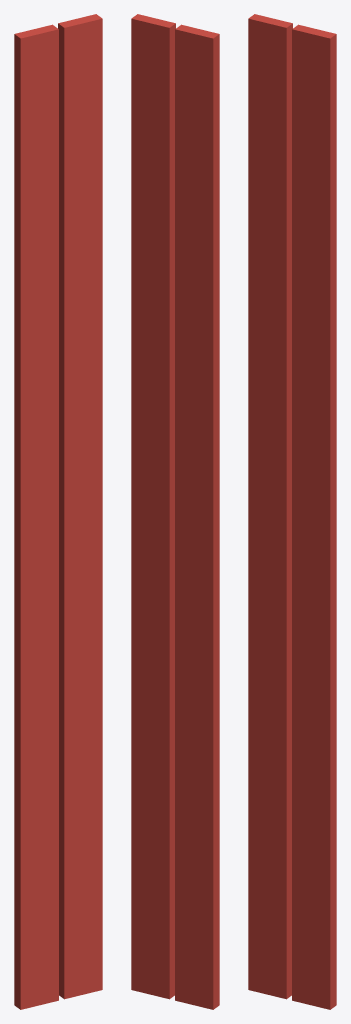
File: sm_product_ski_pair.glb
3 renders of one model, left to right at view 1: azimuth 30°, elevation 25°; view 2: azimuth 150°, elevation 25°; view 3: azimuth 330°, elevation 25°, orthographic.
Visible parts, largest first — view 1: ski_pair_0, ski_pair_1; view 2: ski_pair_0, ski_pair_1; view 3: ski_pair_1, ski_pair_0.
Part boxes in pixels (x1=…): ski_pair_0: x1=14, y1=24, x2=58, y2=1009; ski_pair_1: x1=58, y1=14, x2=102, y2=999; ski_pair_0: x1=175, y1=24, x2=219, y2=1009; ski_pair_1: x1=131, y1=14, x2=175, y2=999; ski_pair_1: x1=292, y1=24, x2=336, y2=1009; ski_pair_0: x1=248, y1=14, x2=292, y2=999.
Size of what is drawn, in the model's own units: 0.15 by 1.7 by 0.02.
